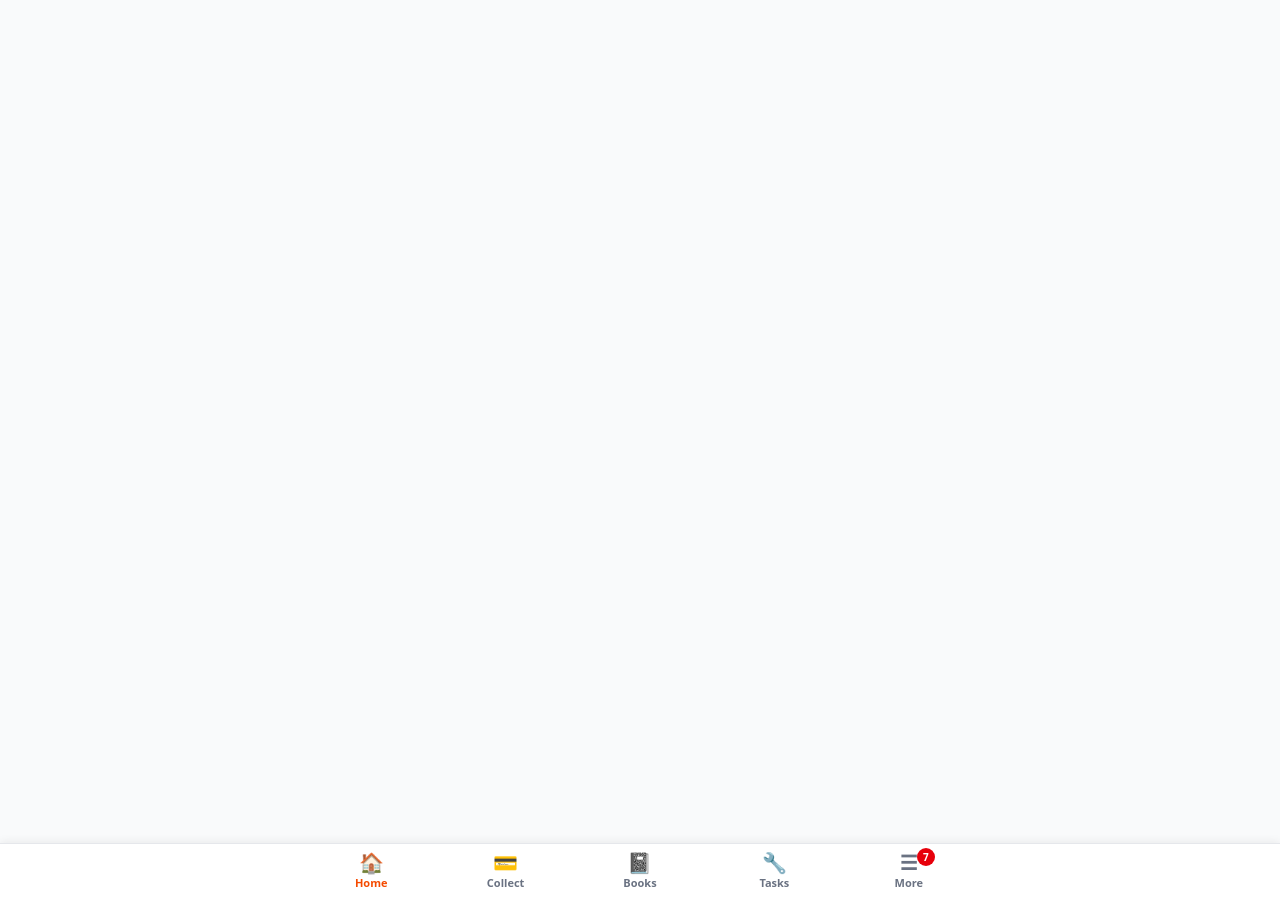
Test: EmployeeBottomNav / EmployeeSubTabs › More opens a sheet with the remaining screens and Help
The width and height of the screenshot is (1280, 900).
Click the button "☰ More 7": click(909, 872) [842,844,976,899]
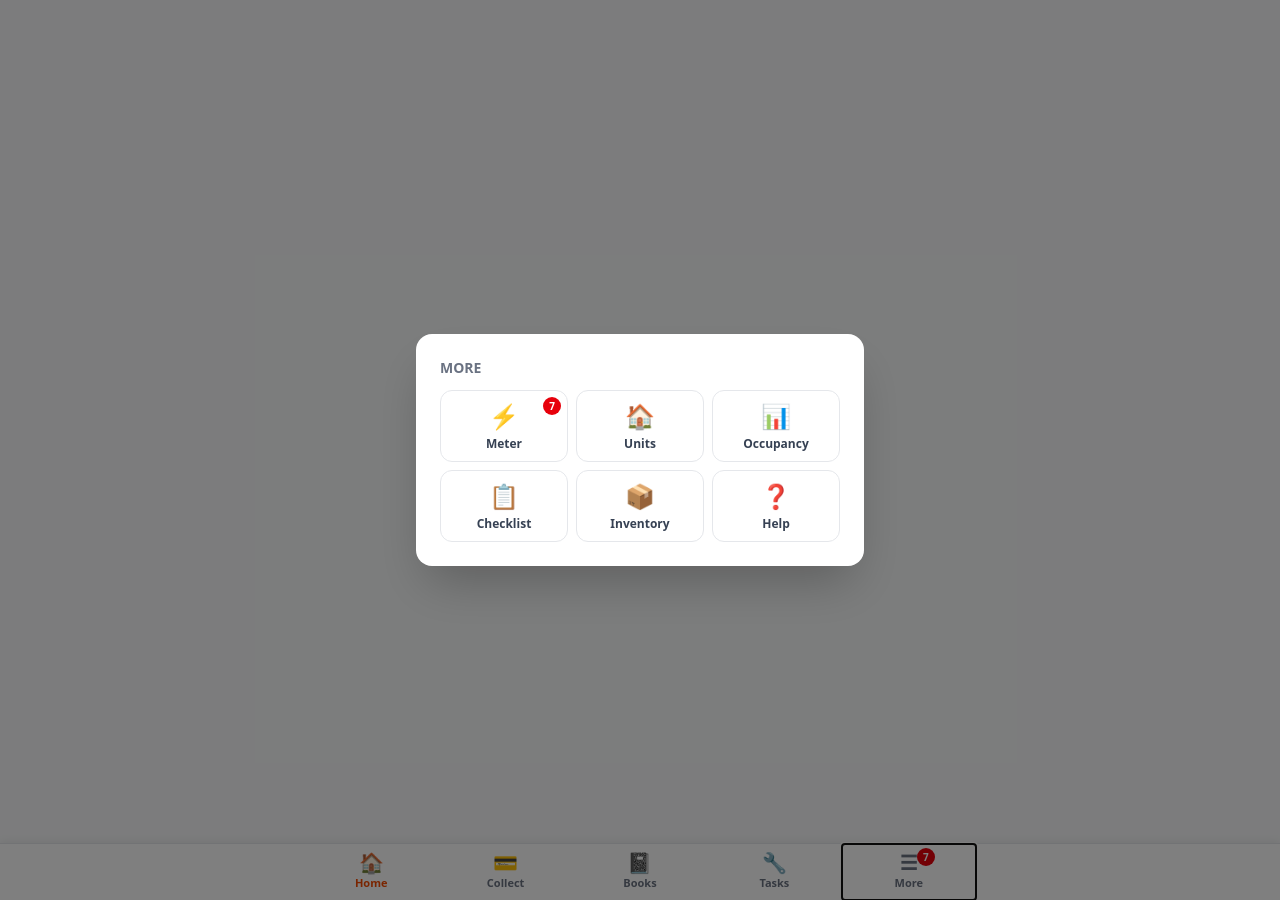
Click the button "⚡ Meter 7": click(504, 426) [440,390,568,462]
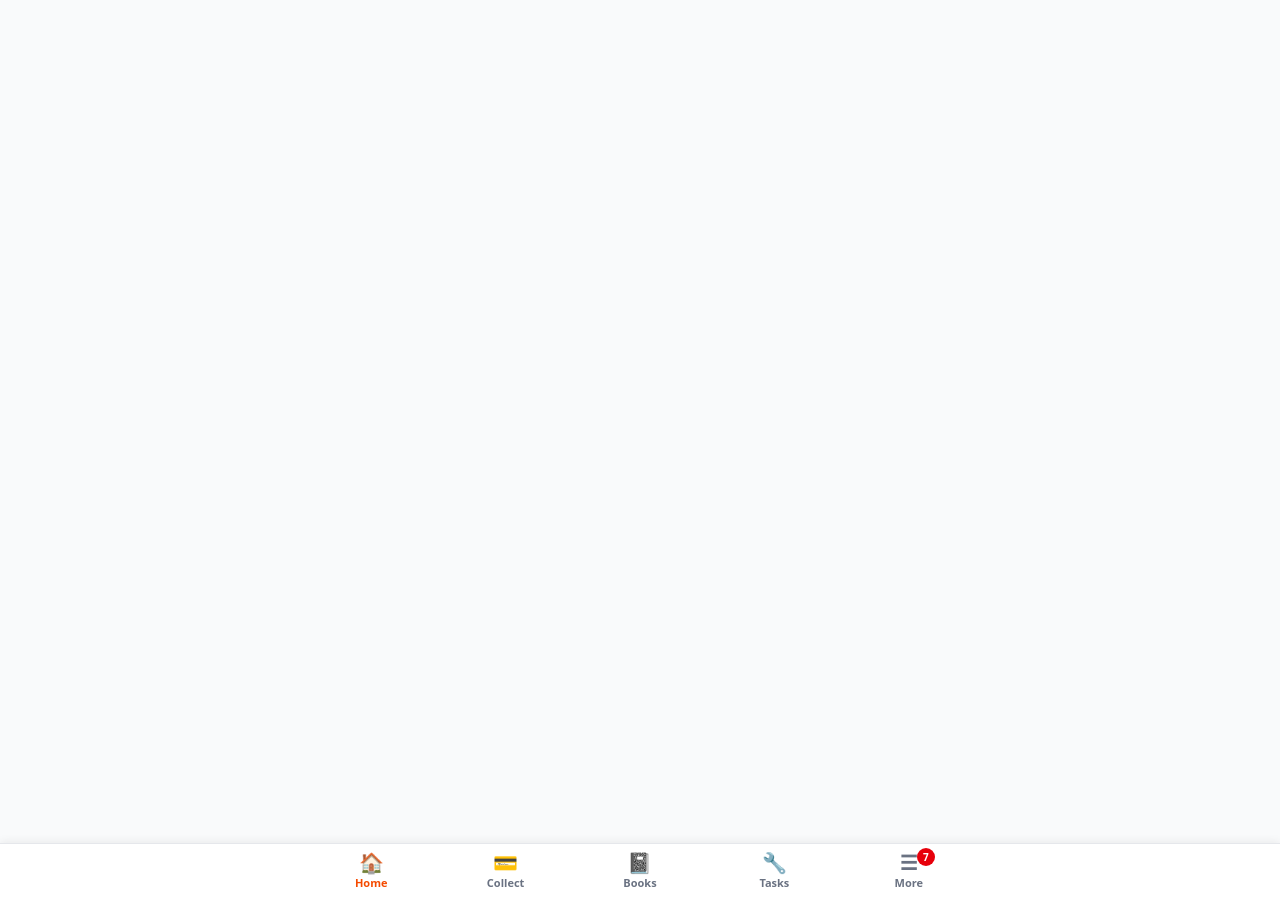
Check: the link "Help" is gone
